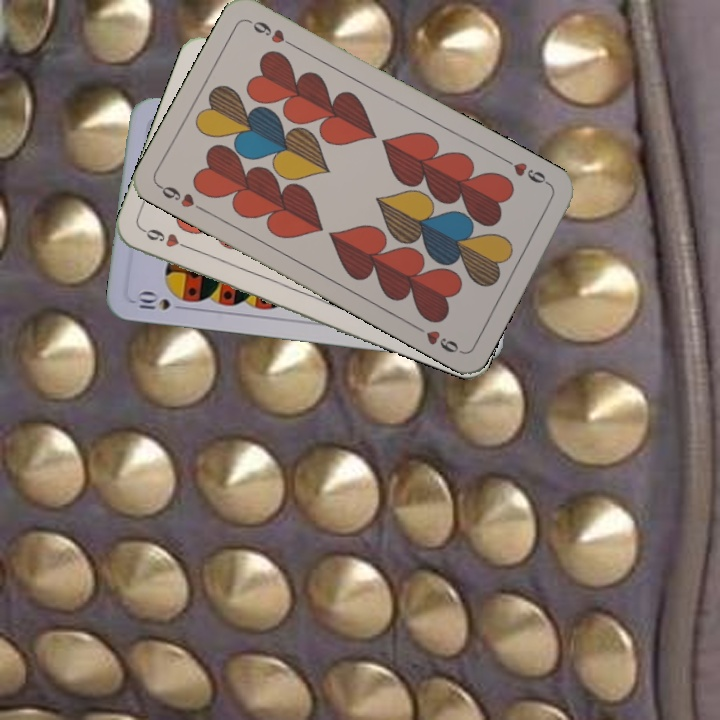H9: (500, 154, 554, 189), (154, 181, 209, 215), (139, 224, 196, 253)
S10: (133, 289, 173, 313)
